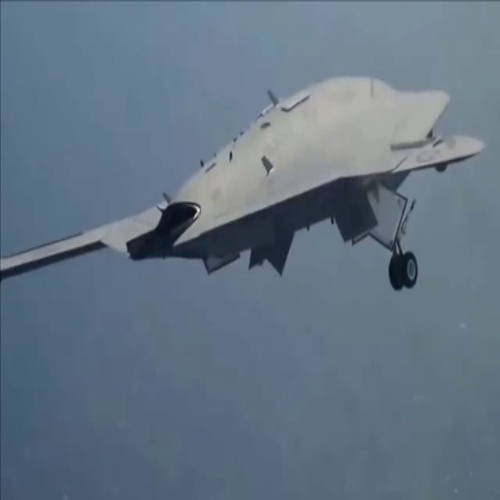uav: (1, 70, 489, 295)
